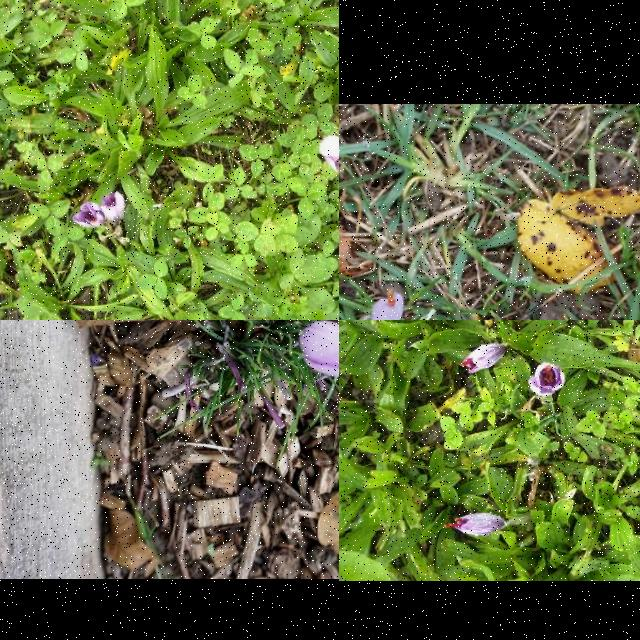flower: (298, 321, 339, 393), (444, 512, 506, 536), (459, 344, 506, 374), (528, 363, 566, 399), (371, 289, 404, 320), (101, 192, 125, 226), (73, 202, 104, 228), (320, 136, 339, 172)
